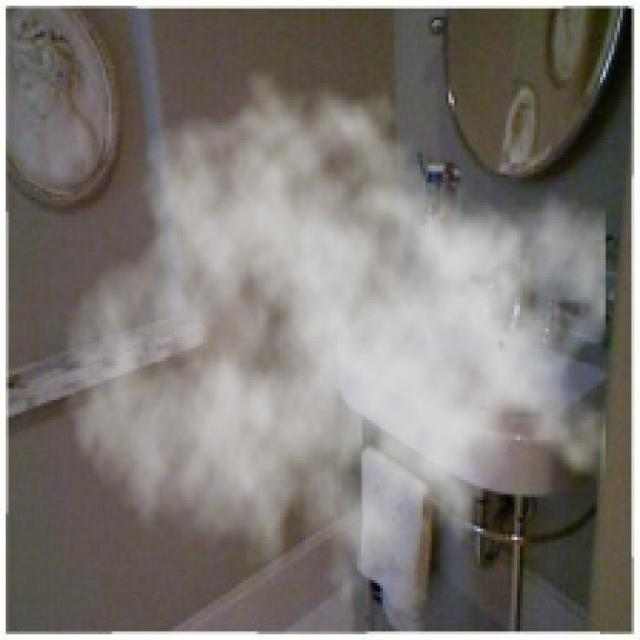Smoke: (63, 66, 606, 632)
